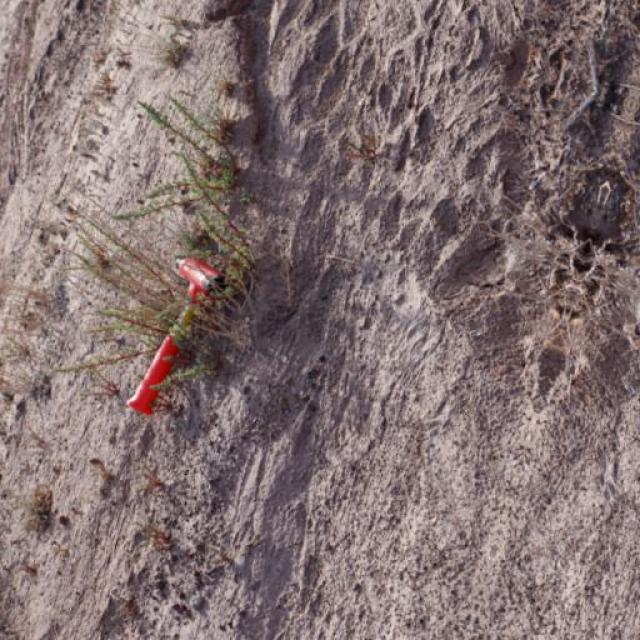mallet: (124, 254, 228, 415)
